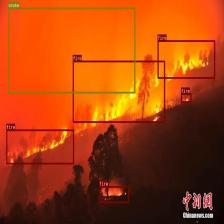fire: (72, 60, 164, 123), (6, 129, 74, 164), (157, 40, 215, 78), (99, 186, 129, 202), (181, 93, 191, 102)
smoke: (8, 7, 135, 93)
